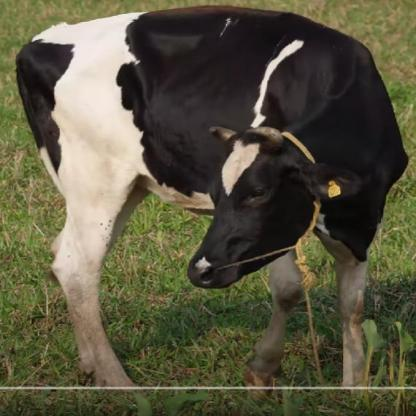cow: (16, 7, 404, 388)
